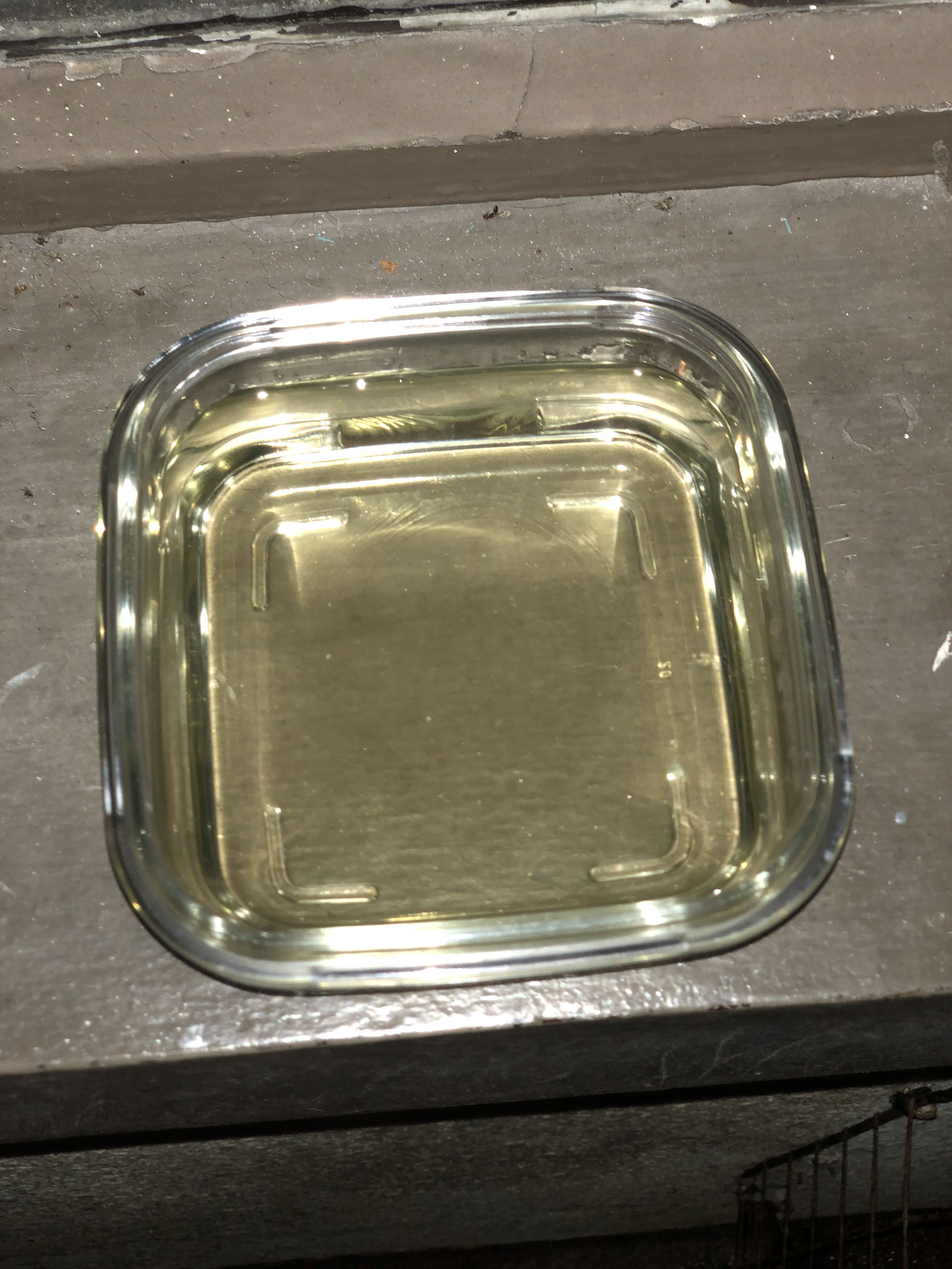reusable: (145, 368, 800, 922)
